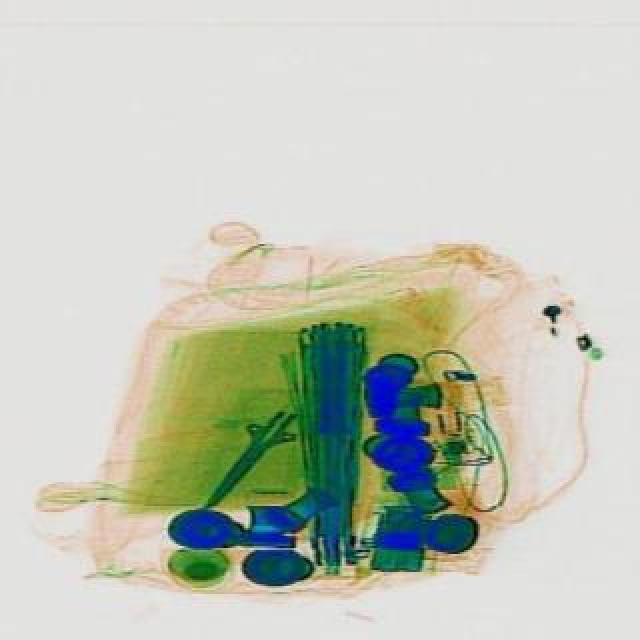knife: (184, 394, 304, 520)
